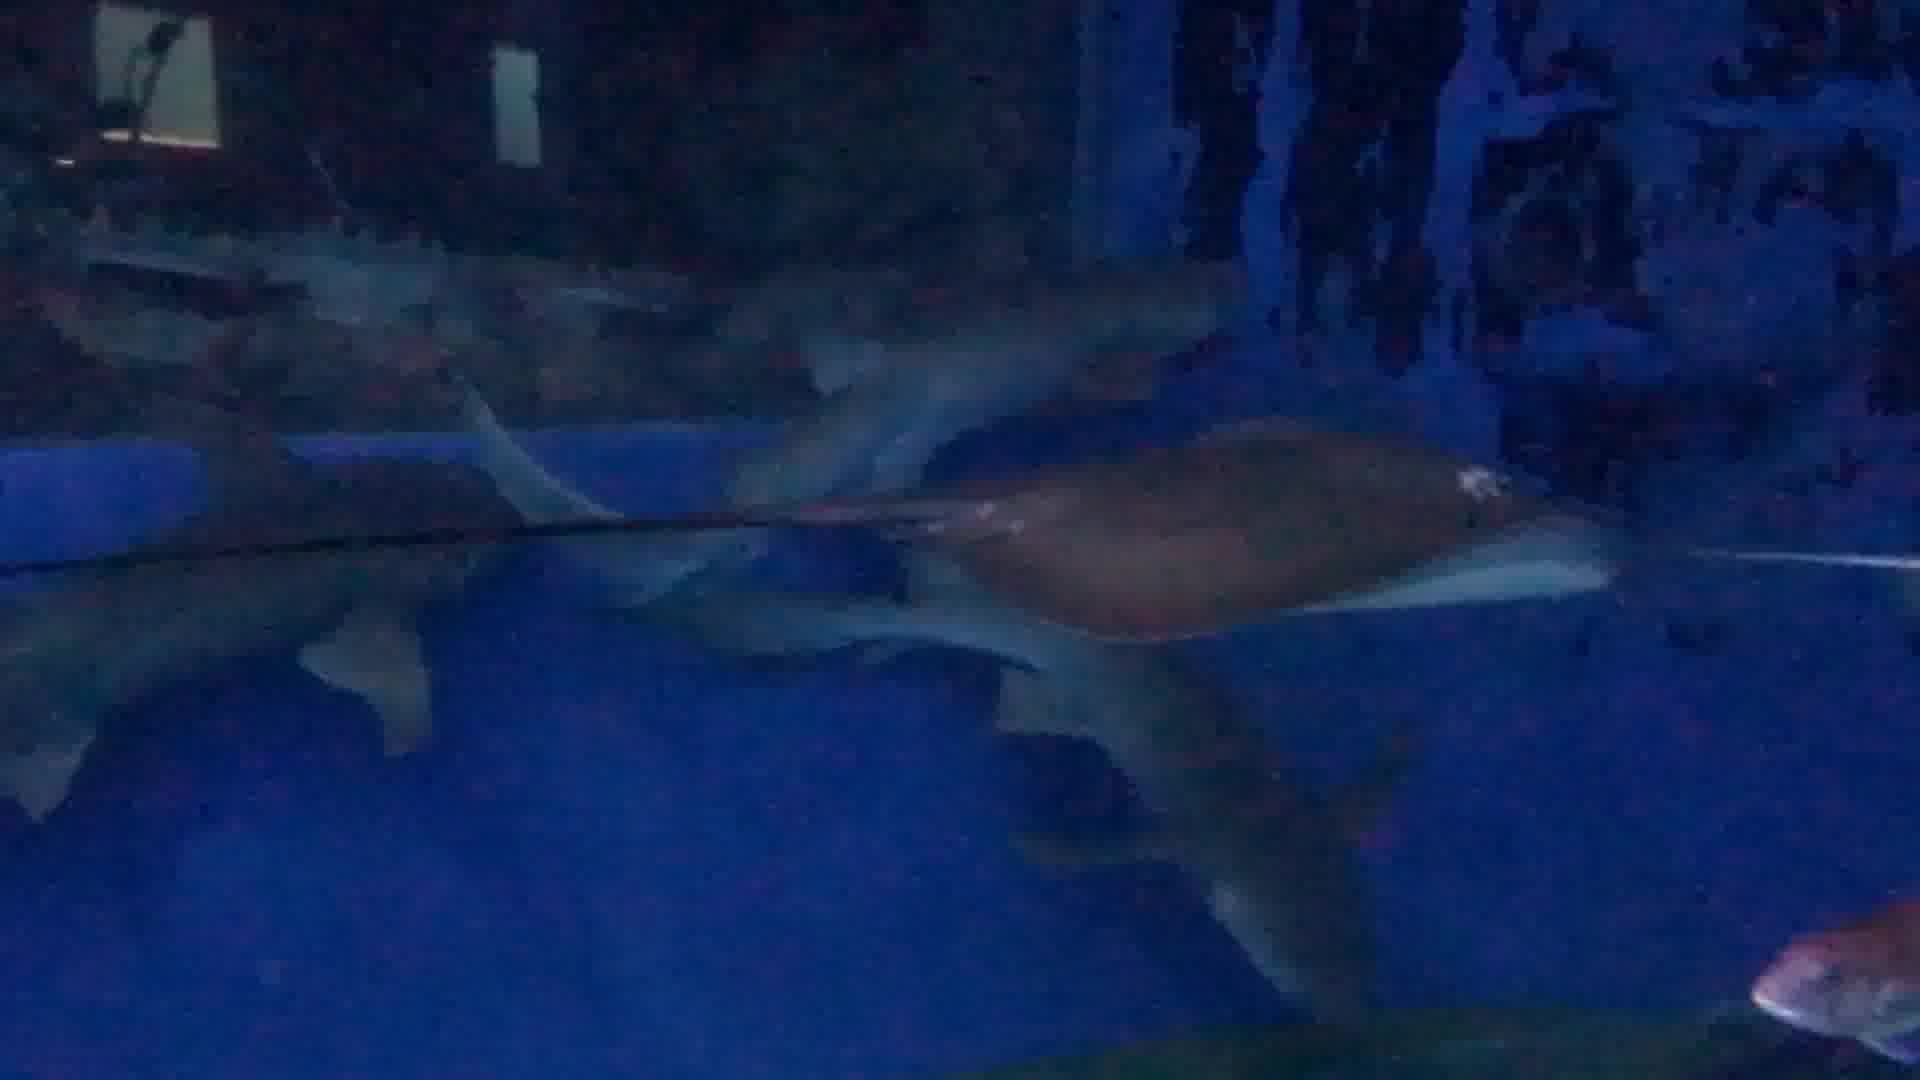Nebrius ferrugineus: (884, 636, 1462, 1064), (1, 376, 579, 804), (694, 208, 1240, 501)
